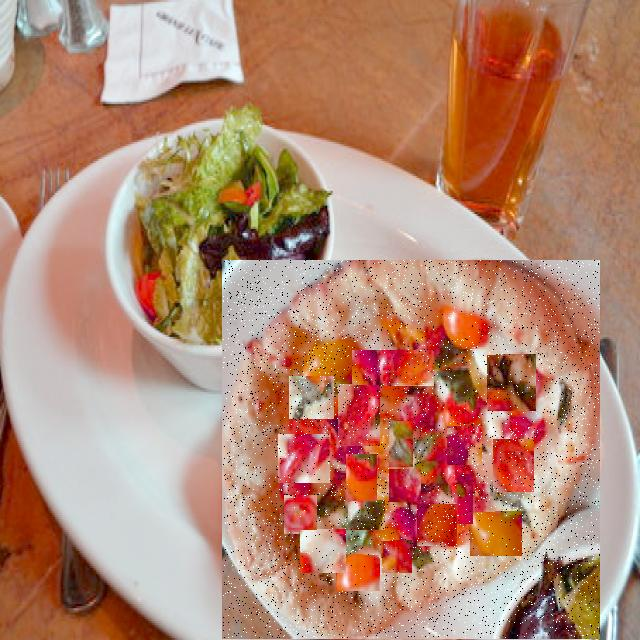Basil: (487, 355, 536, 411), (450, 337, 496, 390), (289, 377, 334, 419), (389, 422, 413, 467), (348, 501, 385, 530), (364, 532, 392, 558), (253, 468, 265, 520), (390, 330, 418, 350), (468, 502, 495, 521)
Cheese: (300, 530, 346, 573), (434, 302, 469, 338)
Pizza: (223, 261, 600, 638)
Tomato: (352, 351, 434, 386), (338, 385, 380, 446), (278, 435, 330, 483), (470, 512, 522, 556), (493, 440, 534, 492), (417, 506, 457, 548), (336, 555, 380, 591), (346, 455, 377, 501), (447, 426, 482, 465), (427, 444, 461, 483), (284, 496, 317, 534), (429, 390, 460, 428), (389, 470, 421, 502), (382, 541, 412, 573), (512, 396, 542, 426), (457, 475, 473, 524)
